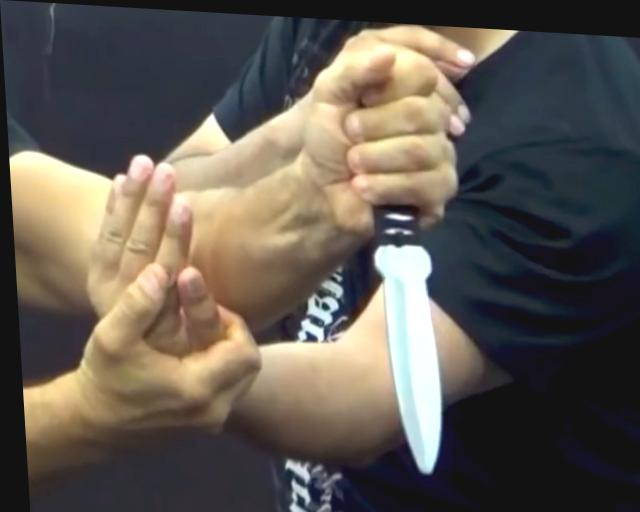pocket-knife: (333, 79, 463, 467)
